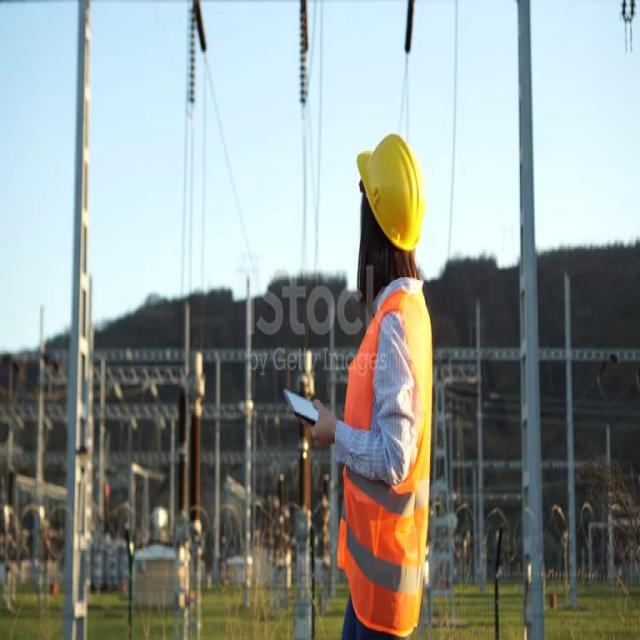capacete: (347, 120, 438, 264)
